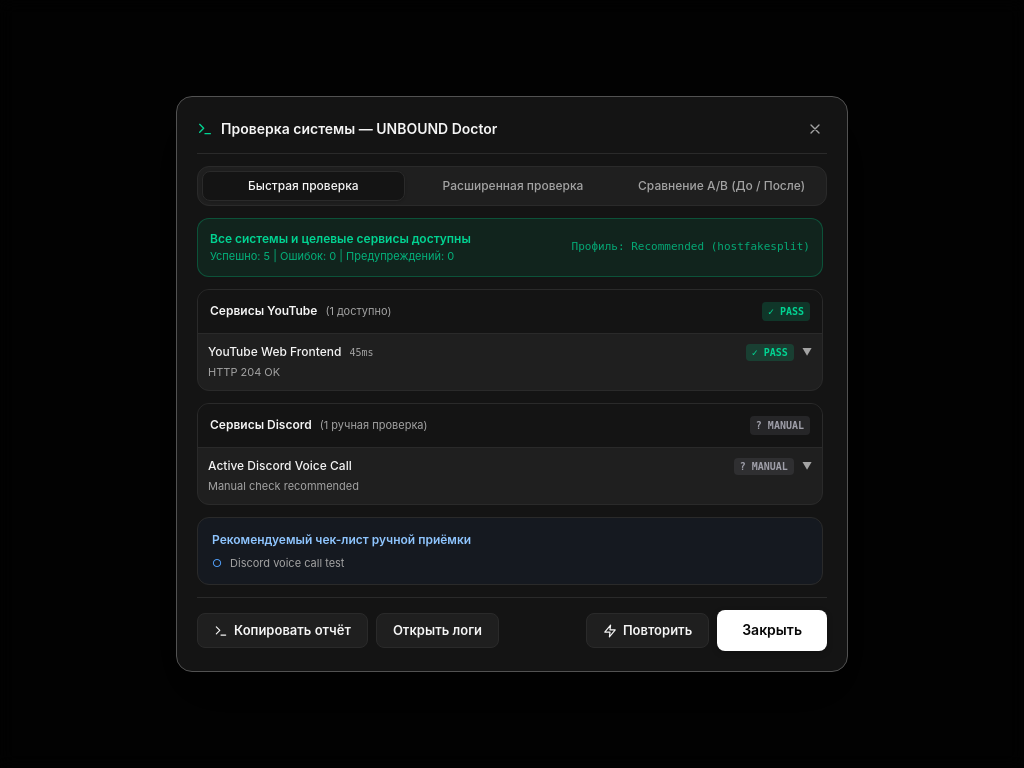
Test case: Doctor & Diagnostics Modal Tests › allows expanding probe details on click
The image size is (1024, 768).
Click the text "YouTube Web Frontend".
click(275, 352)  # box [208,344,341,360]
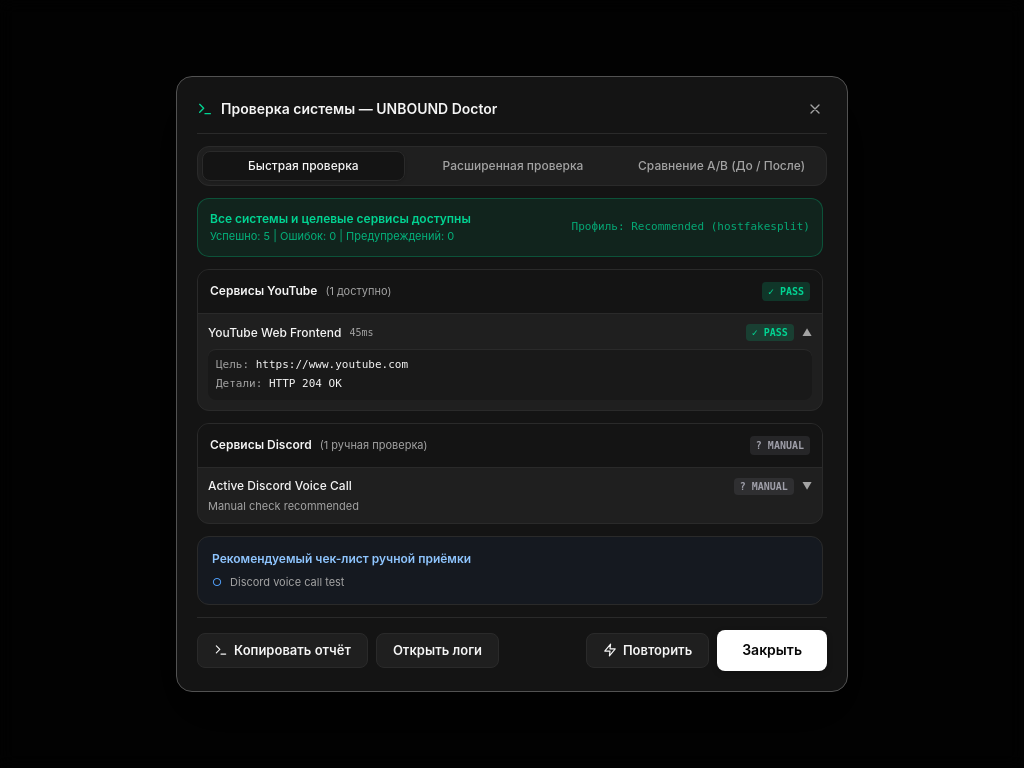
Check: the text "Цель: https://www.youtube.com" is shown, box [216,358,408,371]
